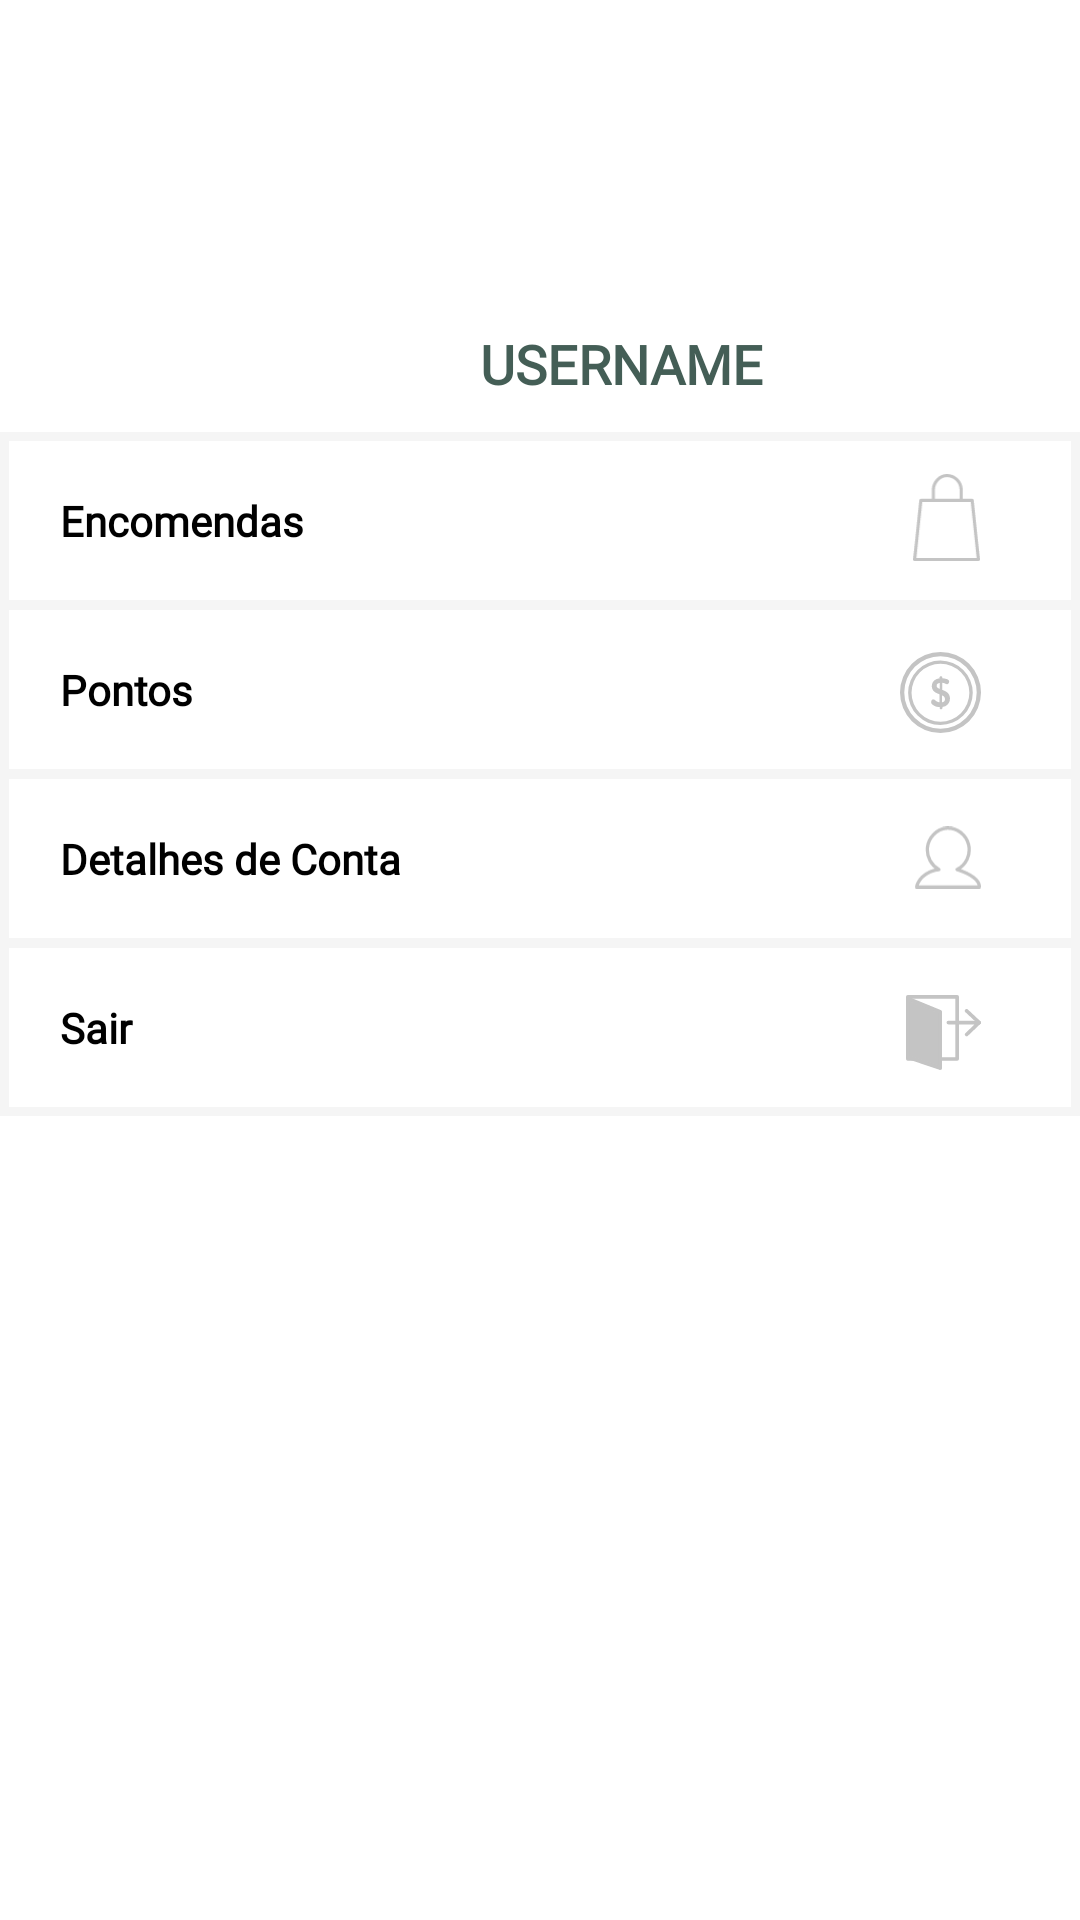

Locate icon controls on the screen. Image size 1080px x 1920px, boxes as region(x1, y1, x2, y2).
carrinho: region(913, 474, 980, 561)
coins: region(900, 652, 981, 733)
out: region(906, 995, 981, 1070)
user: region(915, 826, 981, 889)
